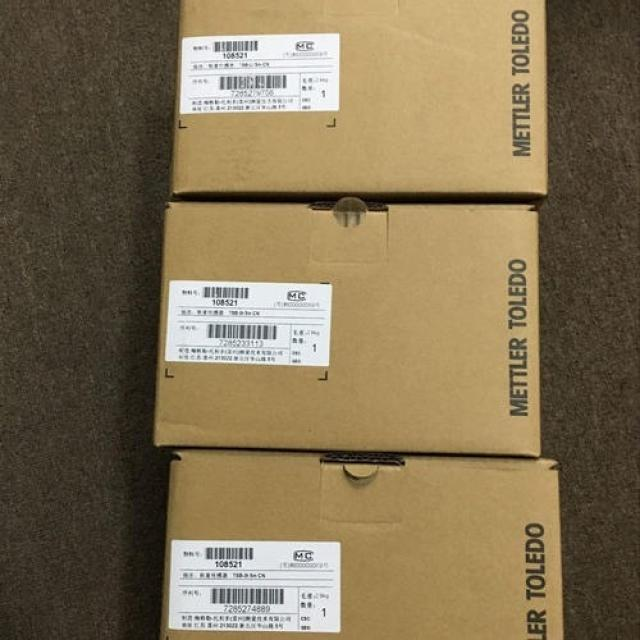box: (154, 200, 538, 457), (156, 448, 566, 639), (167, 1, 547, 205)
